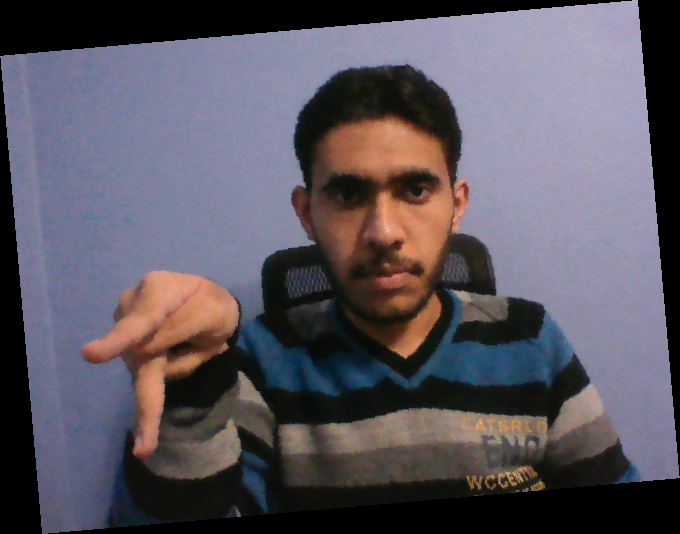P: (74, 257, 244, 466)
